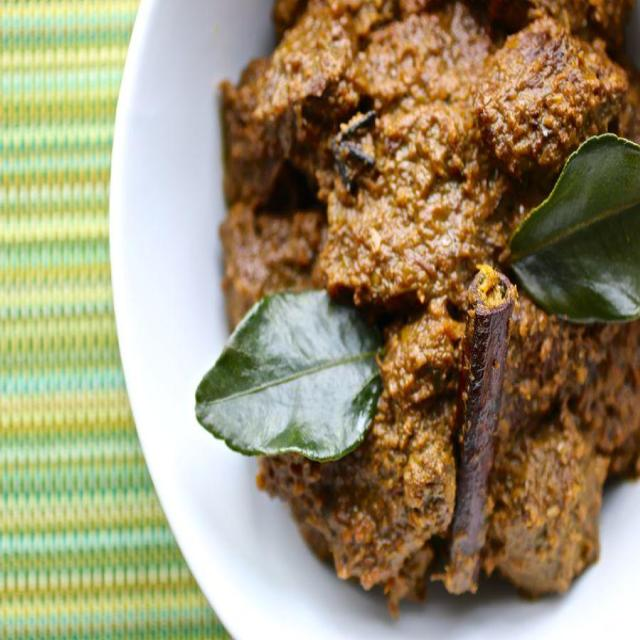Rendang: (212, 0, 640, 613)
